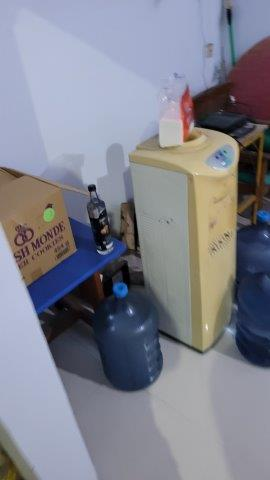botolkaca: (87, 182, 116, 257)
